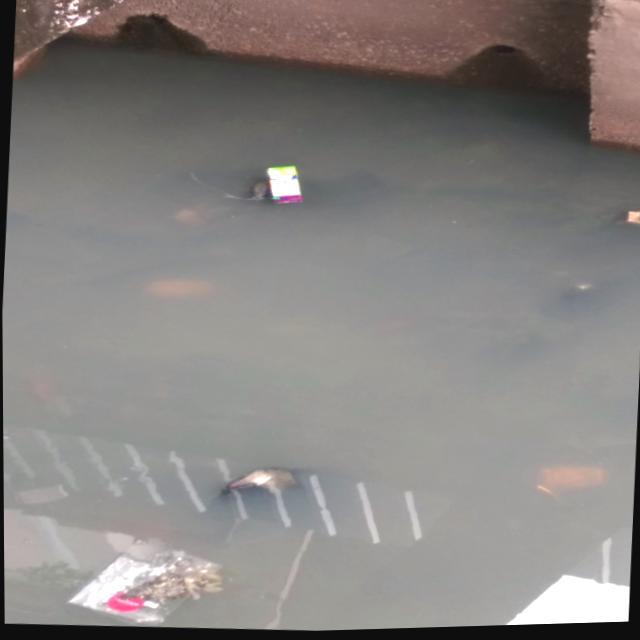Plastic: (53, 527, 230, 634), (254, 162, 311, 216)
